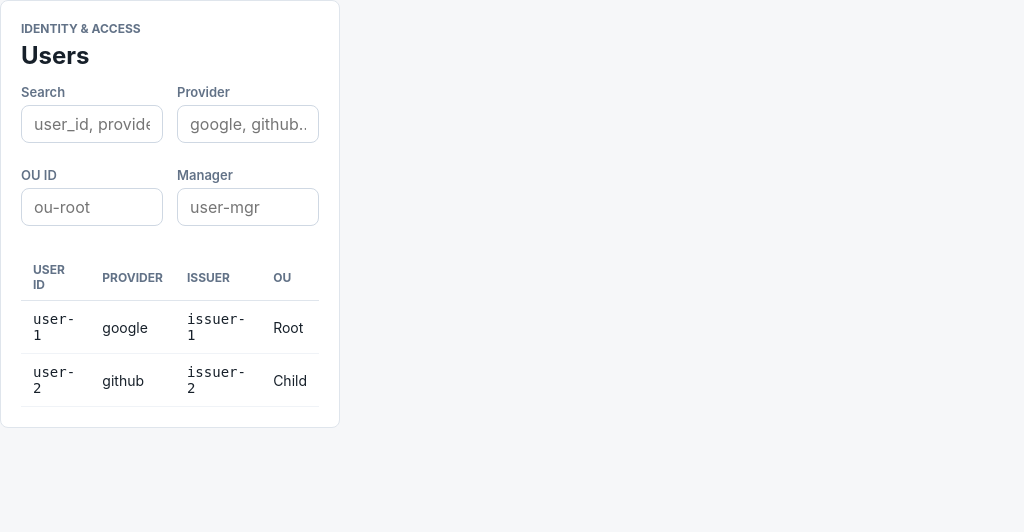
Test: UserWorkspace › surfaces invalid_org_cycle error on org save
This screenshot has width=1024, height=532.
Click the text "google": (133, 327) [90,300,175,354]
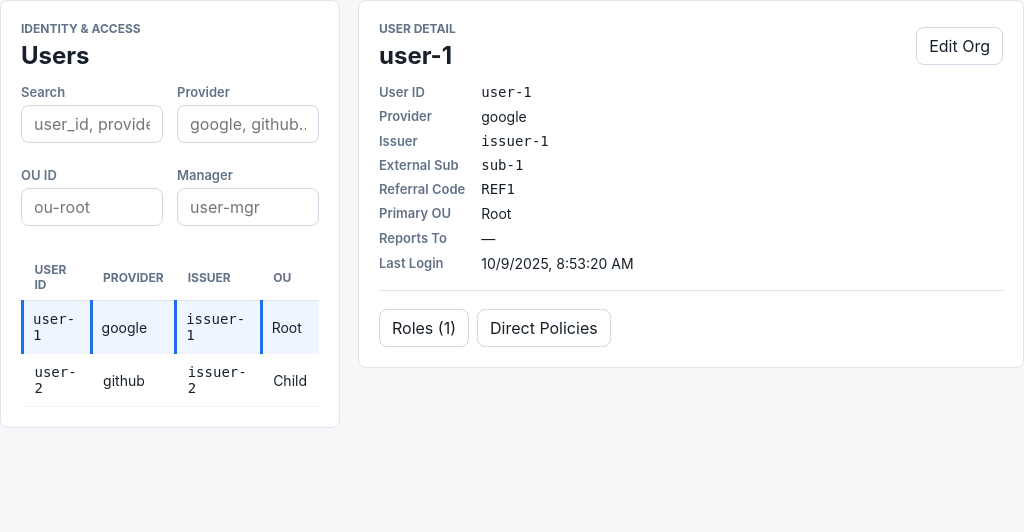
Now the button "Edit Org" is shown
Click the button "Edit Org": (960, 46) [916,26,1003,64]
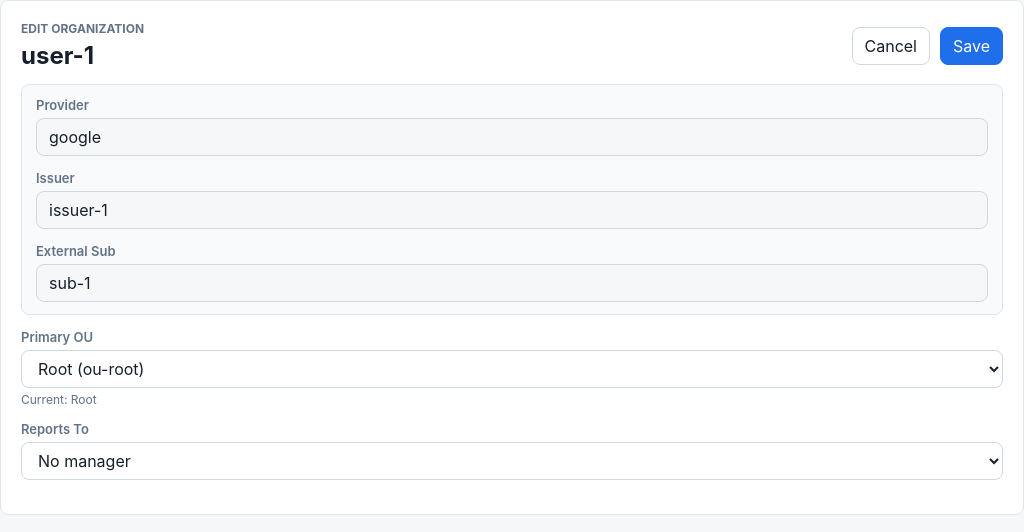
Now the text "Edit Organization" is shown, box [21,21,144,36]
Click the button "Save": (972, 46) [940,26,1003,64]
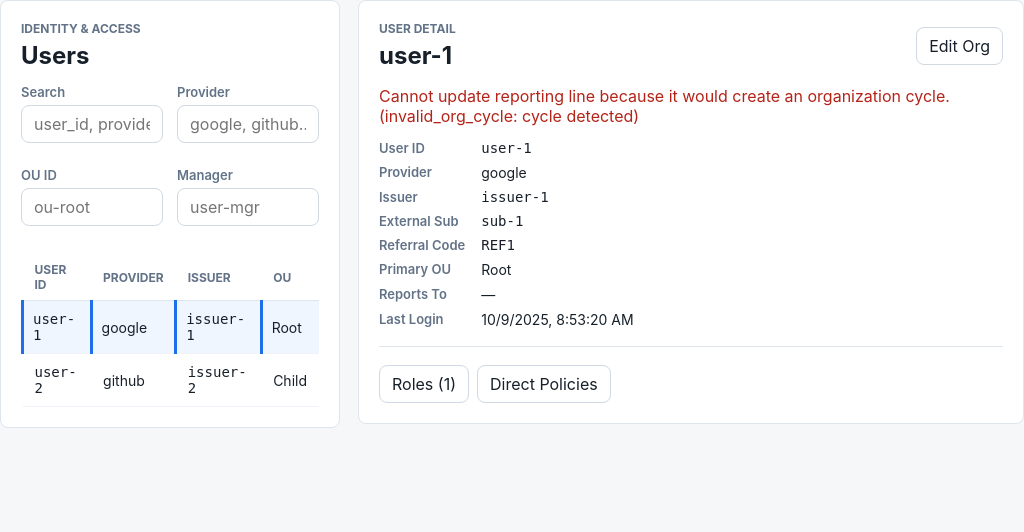
Now the text "organization cycle" is shown, box [379,86,950,126]
